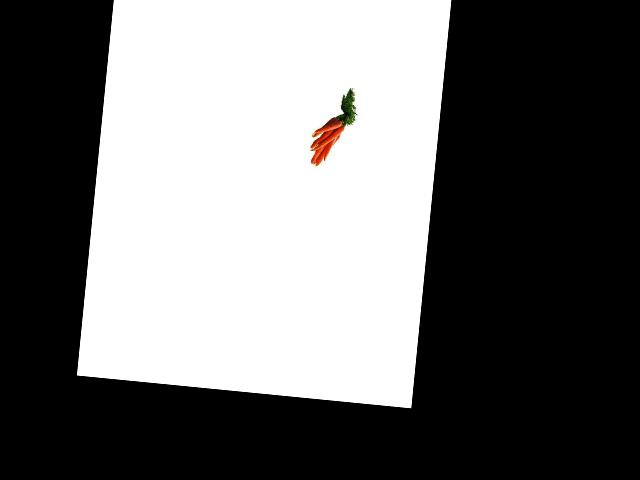carrot: (304, 113, 340, 133)
